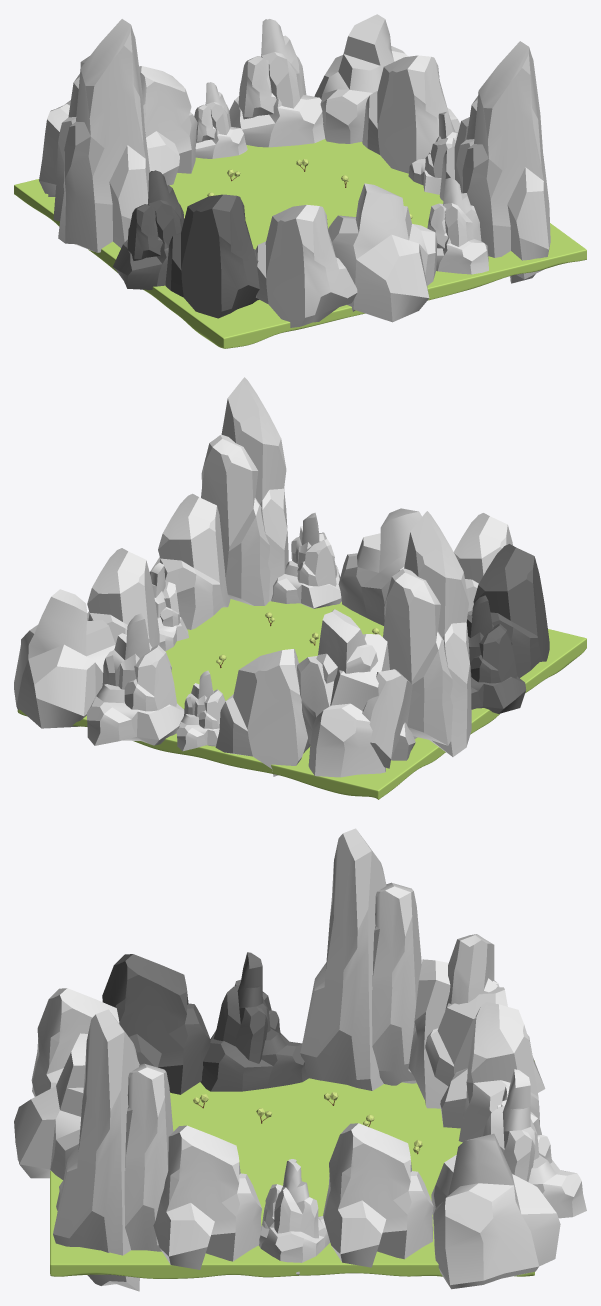
3 renders of one model, top to bottom at view 1: azimuth 30°, elevation 25°; view 2: azimuth 150°, elevation 25°; view 3: azimuth 270°, elevation 25°, orthographic. The views are drawn at different scales.
Visible parts, largest first — view 1: New object, Rock_4.001, Rock_4, Rock_2.001, Rock_1, Rock_1.003, Rock_5.005, Rock_1.002, Rock_2, Rock_1.001, Rock_5, Rock_5.001 (+4 smaller); view 2: New object, Rock_4.001, Rock_3, Rock_4, Rock_2, Rock_5.005, Rock_1.001, Rock_1.004, Rock_1, Rock_2.001, Rock_5, Rock_1.002 (+4 smaller); view 3: New object, Rock_4.001, Rock_4, Rock_2, Rock_1.002, Rock_1.004, Rock_3, Rock_1, Rock_5, Rock_1.001, Rock_2.001, Rock_5.005 (+2 smaller).
Part boxes in pixels (x1,y1,x2,y2): New object: [14, 139, 586, 348]; Rock_4.001: [53, 19, 149, 252]; Rock_4: [455, 41, 550, 283]; Rock_2.001: [328, 183, 437, 322]; Rock_1: [165, 194, 259, 318]; Rock_1.003: [255, 205, 357, 327]; Rock_5.005: [229, 19, 325, 147]; Rock_1.002: [362, 55, 460, 173]; Rock_2: [314, 14, 407, 143]; Rock_1.001: [139, 66, 197, 185]; Rock_5: [113, 170, 184, 289]; Rock_5.001: [427, 178, 488, 274]; New object: [17, 599, 586, 799]; Rock_4.001: [383, 511, 471, 756]; Rock_3: [297, 609, 415, 777]; Rock_4: [201, 377, 288, 605]; Rock_2: [14, 589, 115, 728]; Rock_5.005: [87, 613, 184, 745]; Rock_1.001: [215, 649, 310, 776]; Rock_1.004: [149, 493, 230, 629]; Rock_1: [471, 544, 549, 677]; Rock_2.001: [338, 508, 421, 625]; Rock_5: [466, 595, 526, 713]; Rock_1.002: [87, 548, 160, 647]; New object: [50, 1060, 534, 1278]; Rock_4.001: [300, 828, 421, 1090]; Rock_4: [53, 1009, 173, 1291]; Rock_2: [431, 1133, 560, 1289]; Rock_1.002: [323, 1123, 433, 1267]; Rock_1.004: [153, 1125, 261, 1269]; Rock_3: [408, 934, 545, 1108]; Rock_1: [102, 954, 210, 1094]; Rock_5: [200, 952, 308, 1091]; Rock_1.001: [440, 1002, 539, 1142]; Rock_2.001: [14, 1033, 87, 1179]; Rock_5.005: [483, 1069, 586, 1218].
Size of the model in its own units: 134 by 80.07 by 141.
